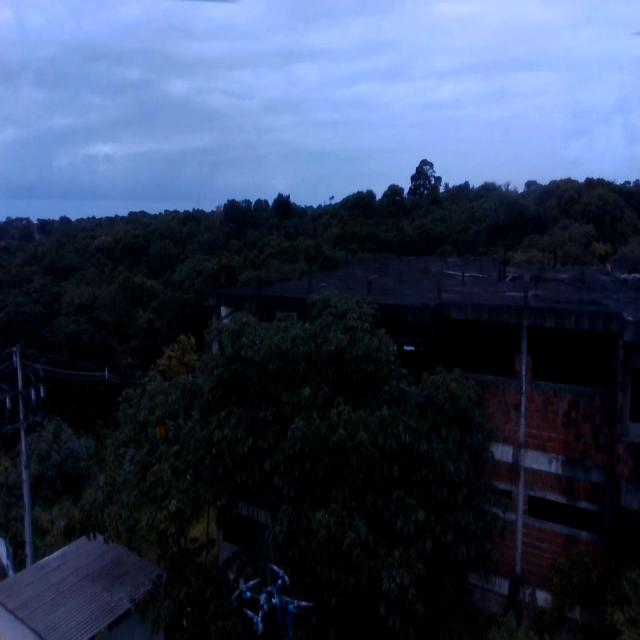-uav-: (225, 554, 314, 640)
